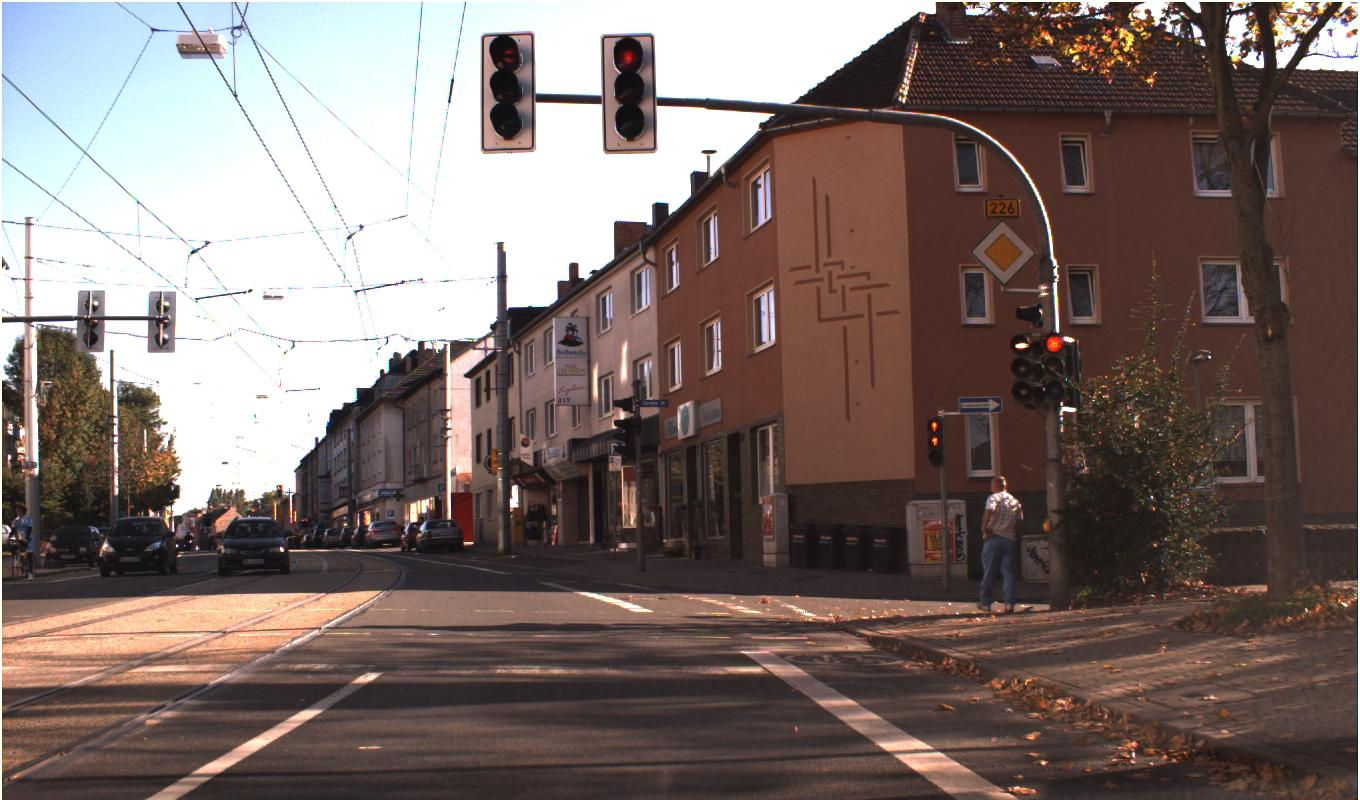sign: (968, 218, 1037, 287)
